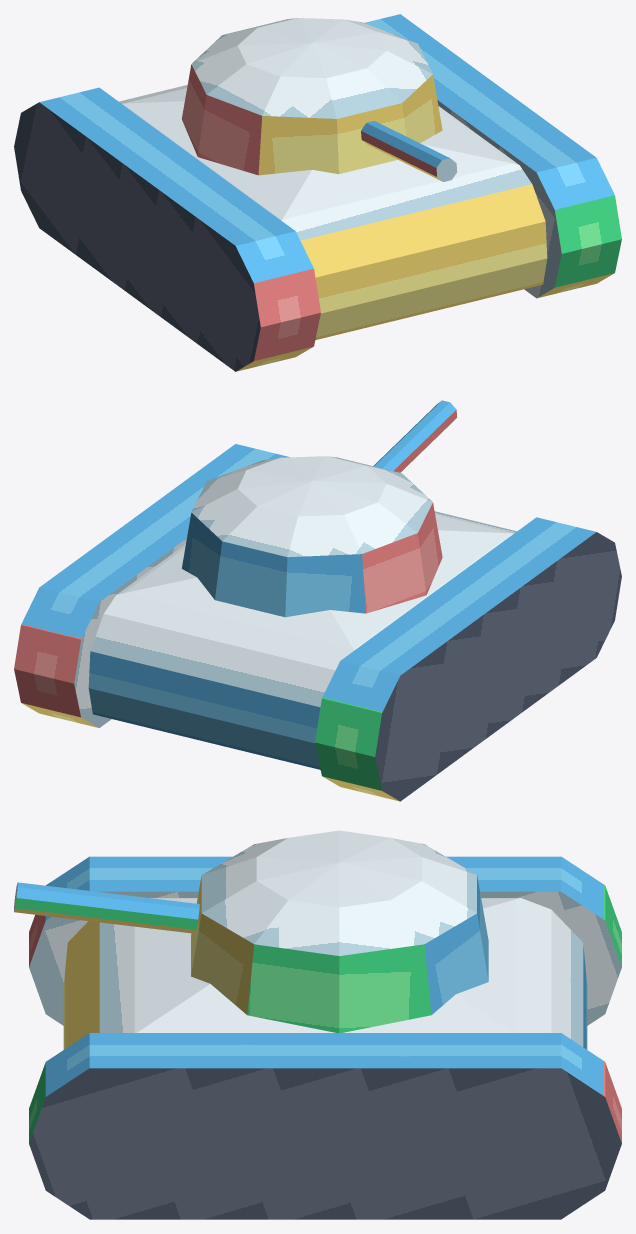
File: tank.gltf
3 renders of one model, top to bottom at view 1: azimuth 30°, elevation 25°; view 2: azimuth 150°, elevation 25°; view 3: azimuth 270°, elevation 25°, orthographic. The views are drawn at different scales.
Visible parts, largest first — view 1: cylinder (×4), torus; view 2: cylinder (×4), torus; view 3: cylinder (×4), torus.
Part boxes in pixels (x1,y1,x2,y2): cylinder (×4): [14, 14, 621, 371]; torus: [119, 85, 547, 339]; cylinder (×4): [14, 400, 621, 801]; torus: [88, 511, 516, 769]; cylinder (×4): [14, 830, 621, 1219]; torus: [63, 898, 587, 1049].
Size of the model in its own units: 1.13 by 0.6219 by 1.37.
1 material, 1 textured.
